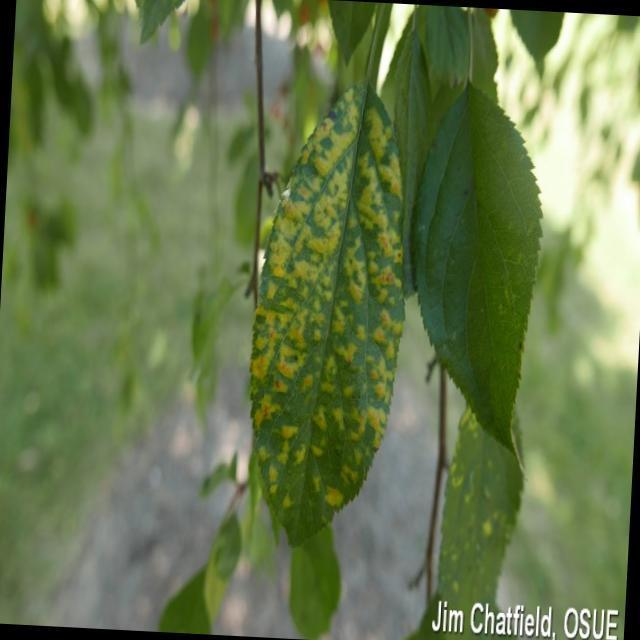Mosaic Virus: (249, 91, 411, 523)
